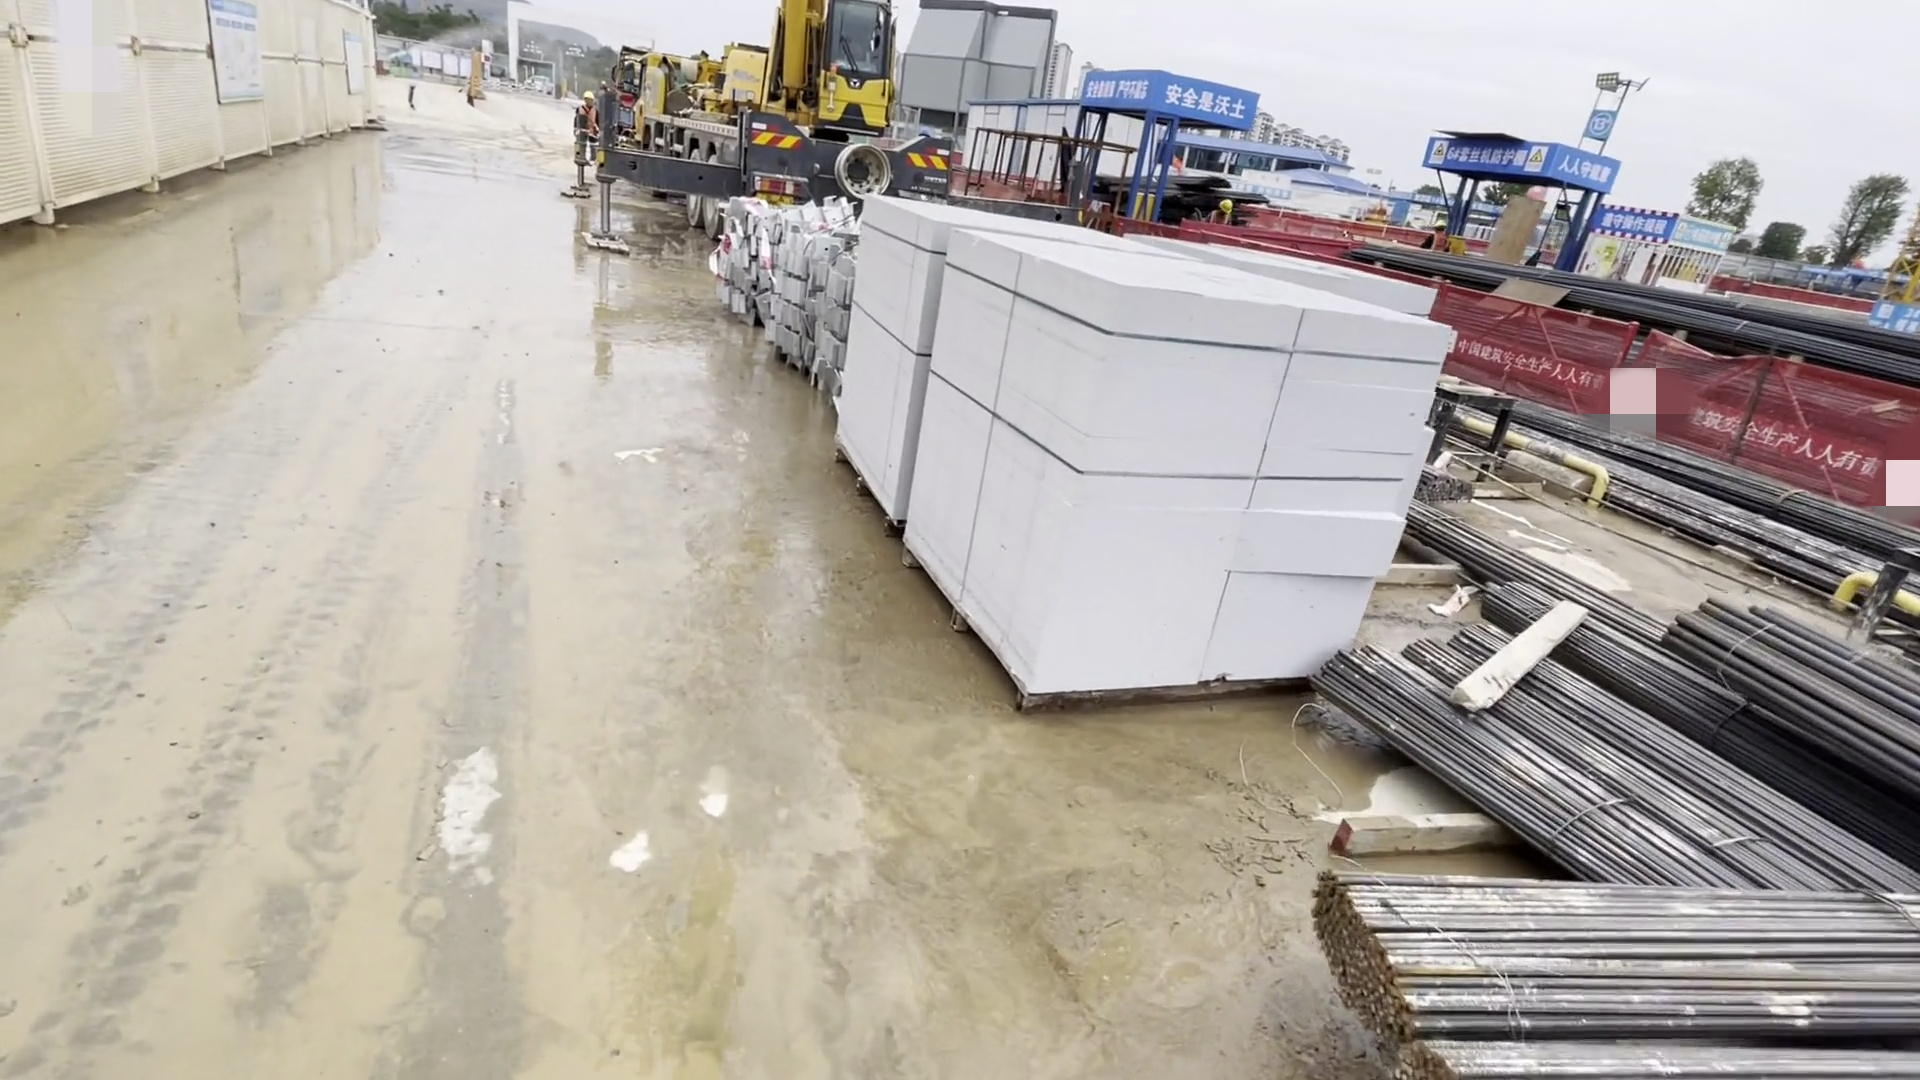brick: (845, 190, 1458, 727)
rebar: (1346, 622, 1920, 1062)
slogan: (1083, 66, 1267, 138), (1410, 133, 1617, 194)
